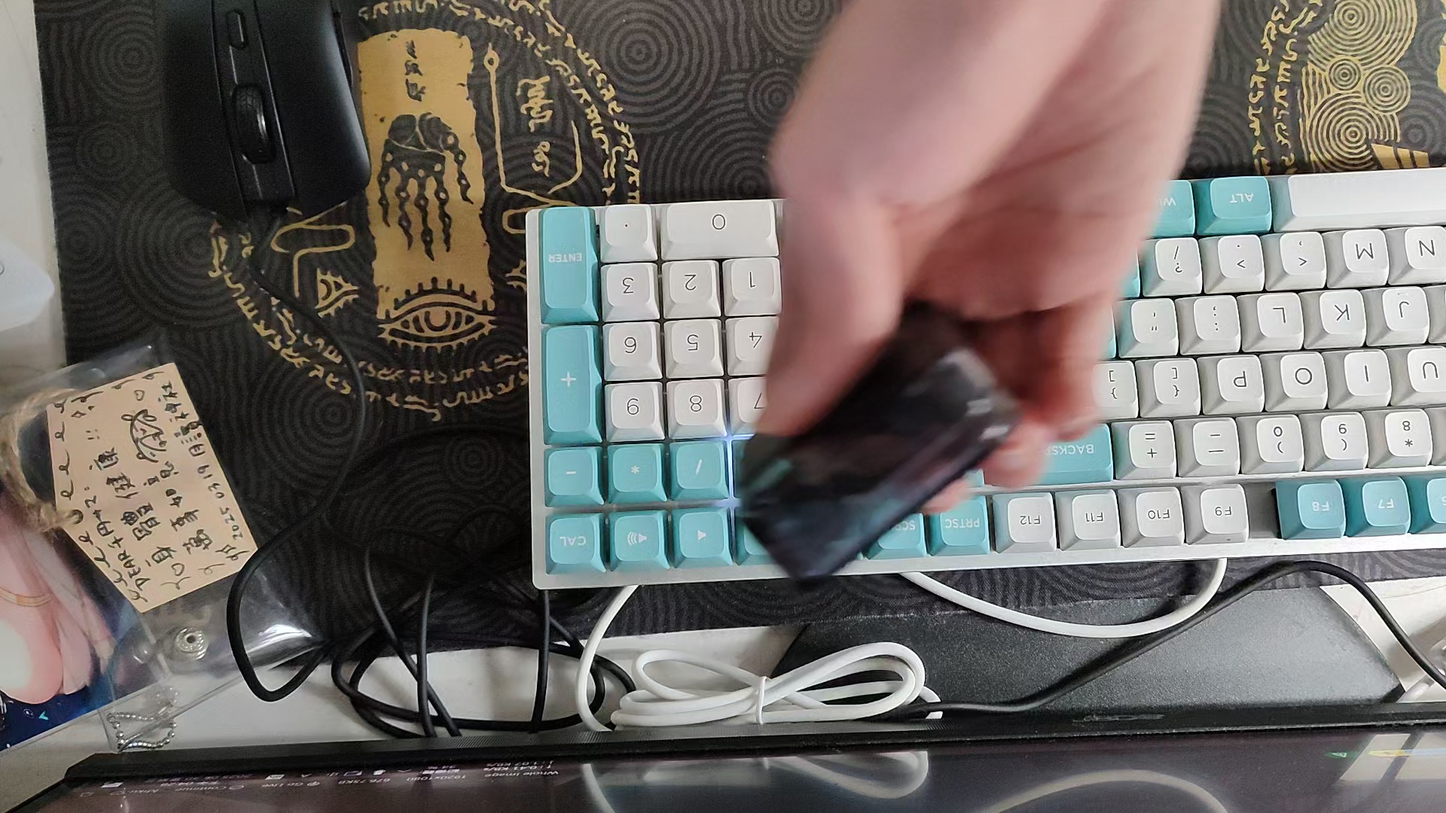Wireless_earphone: (741, 296, 1026, 592)
